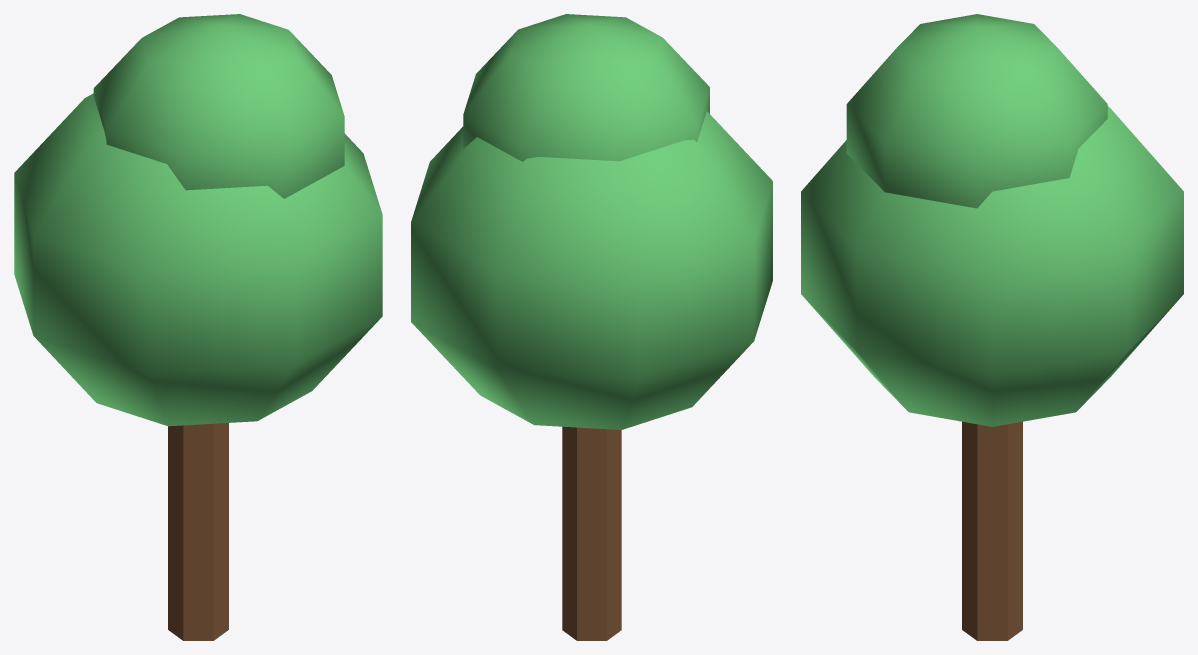
The model's file is tree.glb.
3 renders of one model, left to right at view 1: azimuth 30°, elevation 25°; view 2: azimuth 150°, elevation 25°; view 3: azimuth 270°, elevation 25°, orthographic. The views are drawn at different scales.
Parts seen in each view (by area): view 1: tree; view 2: tree; view 3: tree.
Part boxes in pixels (x1,y1,x2,y2): tree: (14,14,382,640); tree: (411,14,772,640); tree: (801,14,1183,640).
Size of the model in its own units: 2.51 by 4.41 by 2.51.
